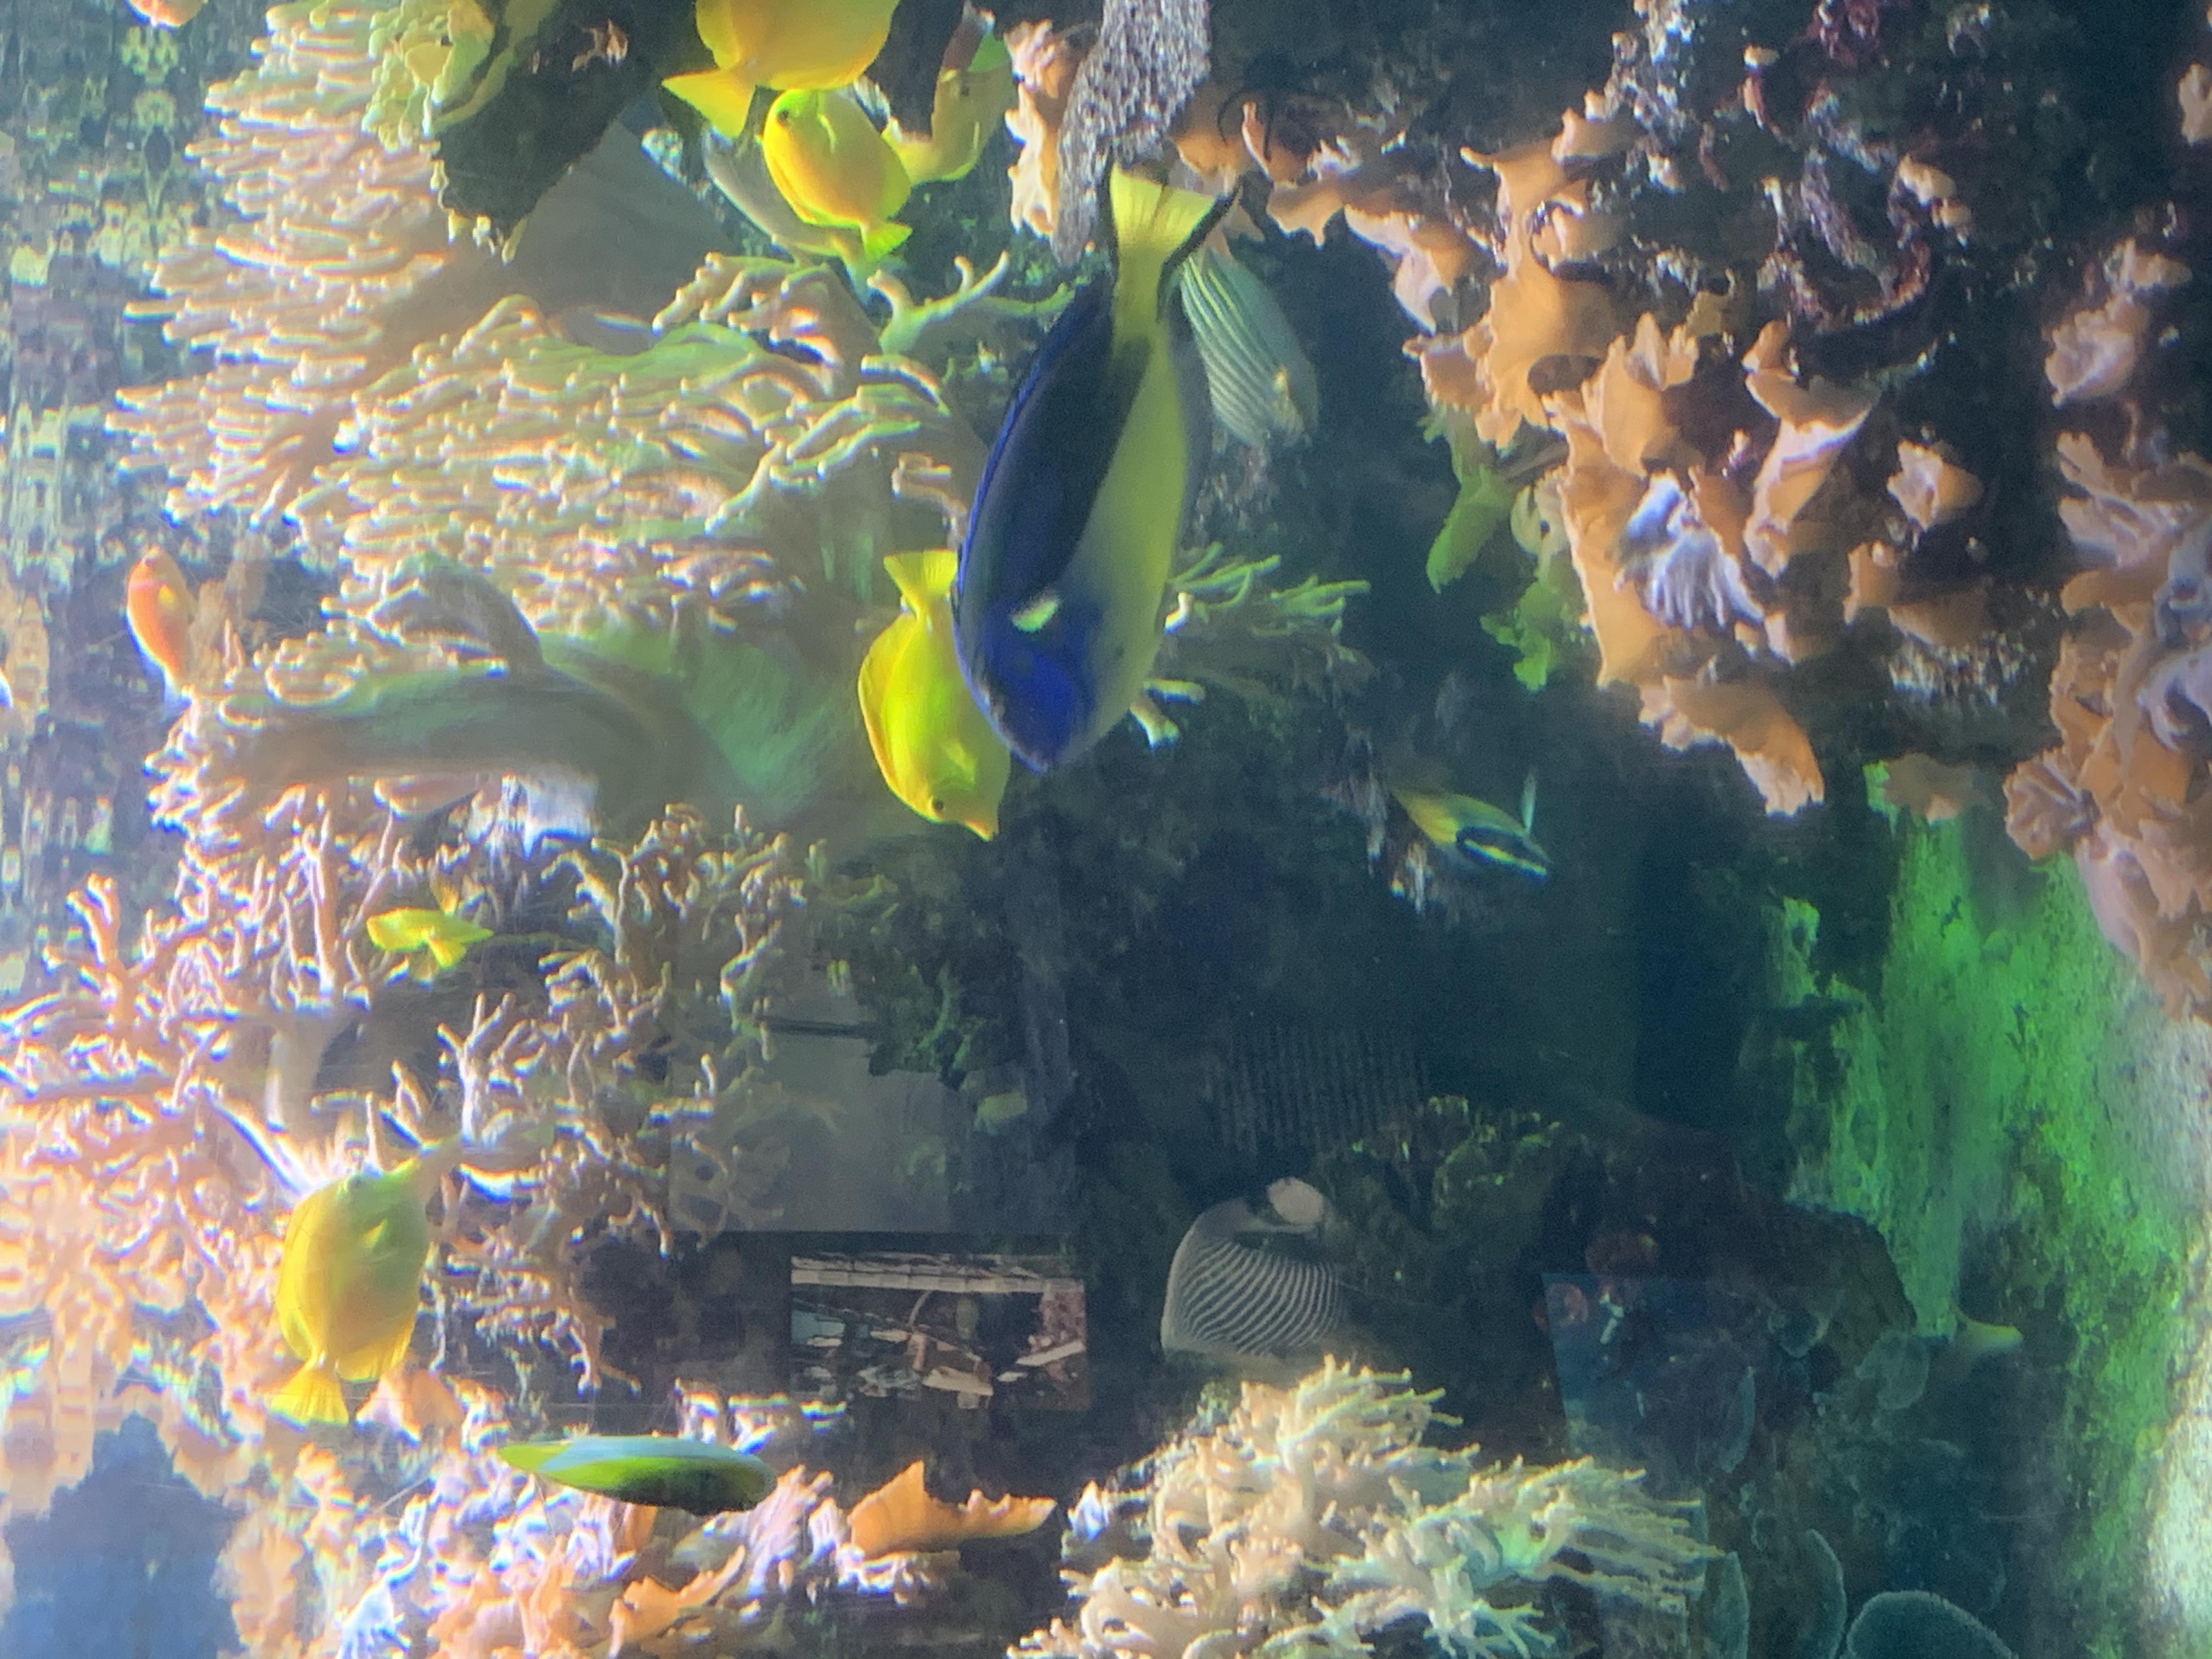fish: (951, 152, 1245, 782), (270, 1147, 446, 1438), (857, 547, 1015, 843), (1158, 1173, 1350, 1377), (676, 0, 902, 139), (756, 94, 916, 265), (503, 1427, 780, 1521), (1385, 772, 1561, 903), (127, 547, 202, 688)
